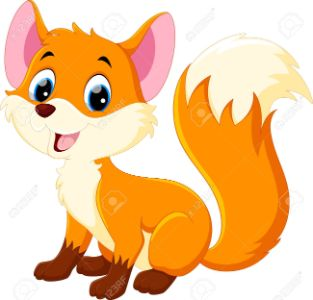fox: (6, 1, 313, 297)
